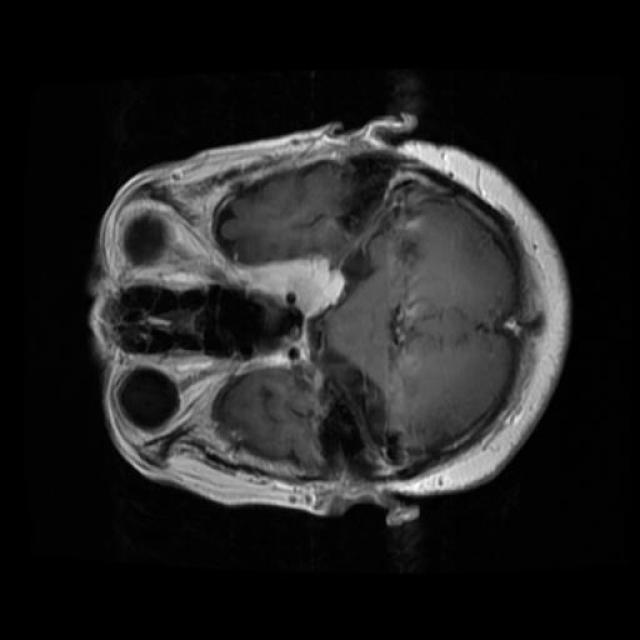Meningioma: (218, 256, 344, 318)
